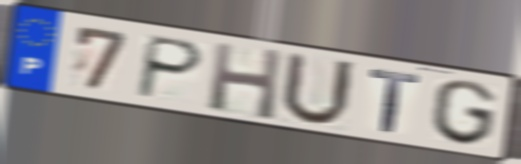7: (73, 24, 128, 91)
G: (429, 77, 499, 148)
H: (206, 39, 285, 123)
P: (132, 33, 208, 102)
T: (367, 66, 422, 136)
U: (277, 49, 358, 129)
